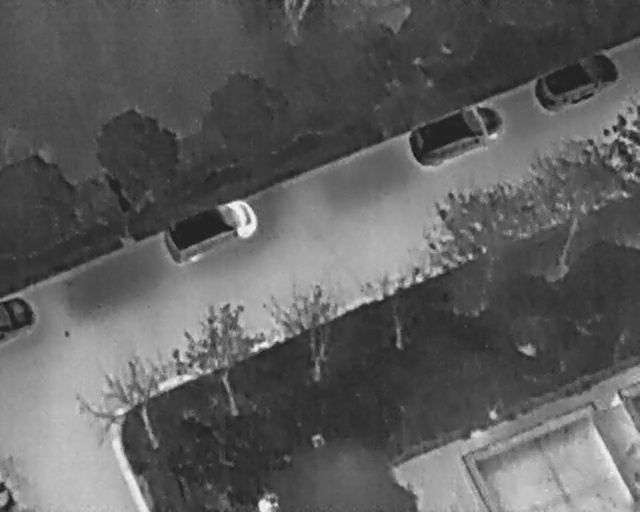Car: (155, 186, 266, 271), (400, 93, 510, 174), (525, 43, 627, 121), (0, 292, 36, 345)
